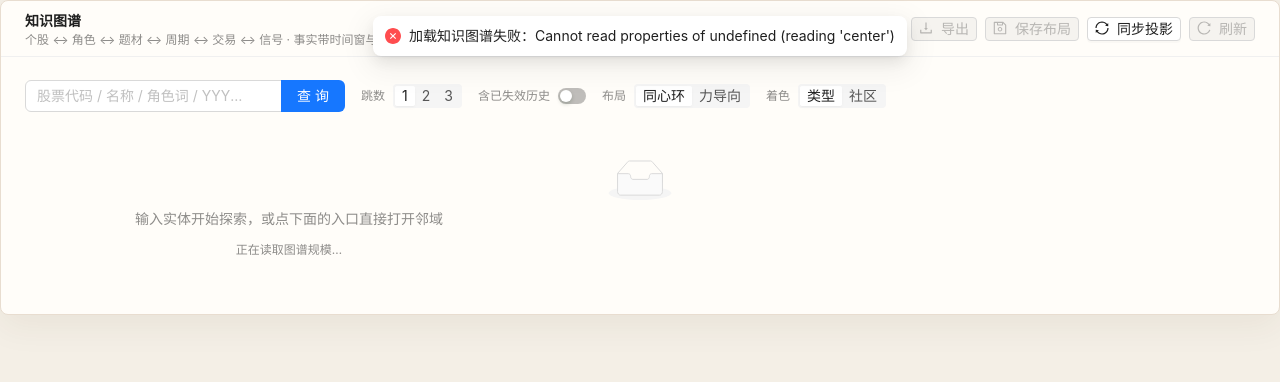
Test: KnowledgeGraphPanel › shows the sync hint when the entity is not found (404)
Type "陌生实体" into the search field with test id "kg-entity-input" at [146, 96], box [37,85,254,107]
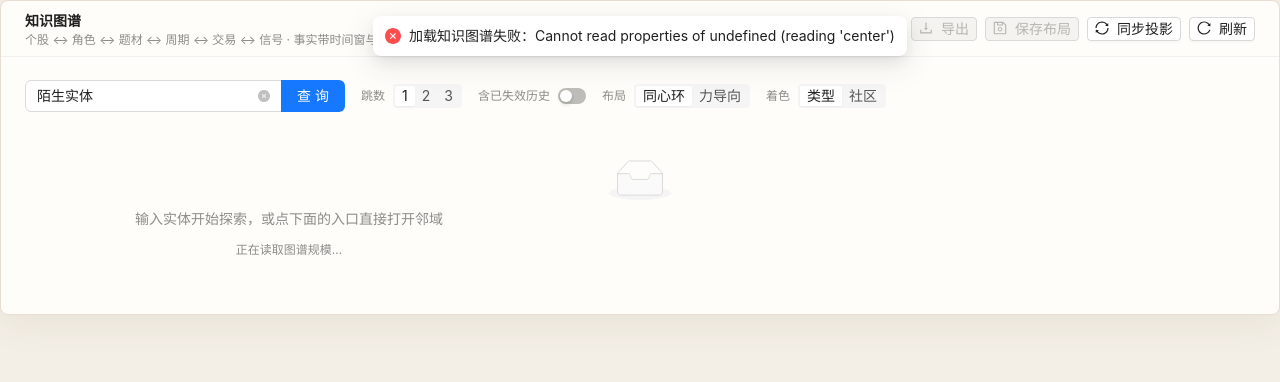
Press Enter in the search field with test id "kg-entity-input", box [37,85,254,107]
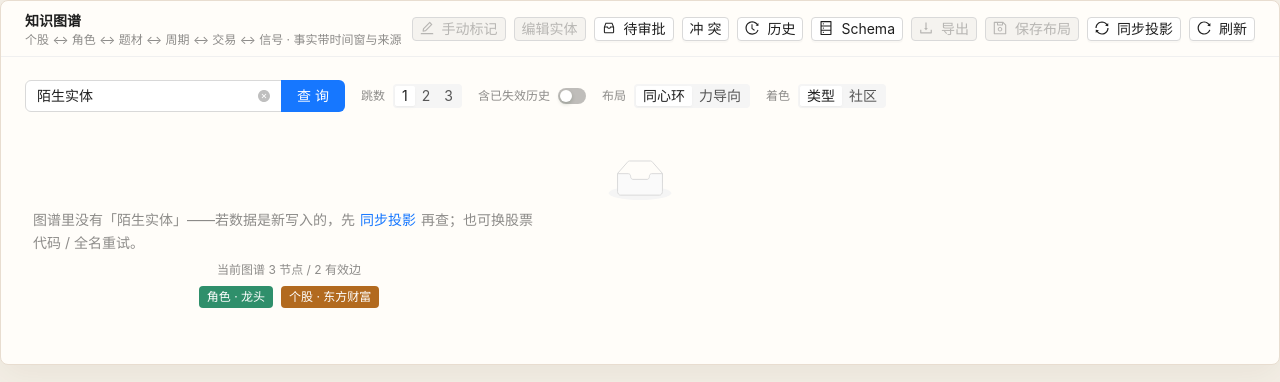
Expected: the element with test id "kg-not-found" shows "陌生实体", [33,211,187,228]
Expected: the element with test id "kg-not-found" shows "同步投影", [355,208,421,232]
